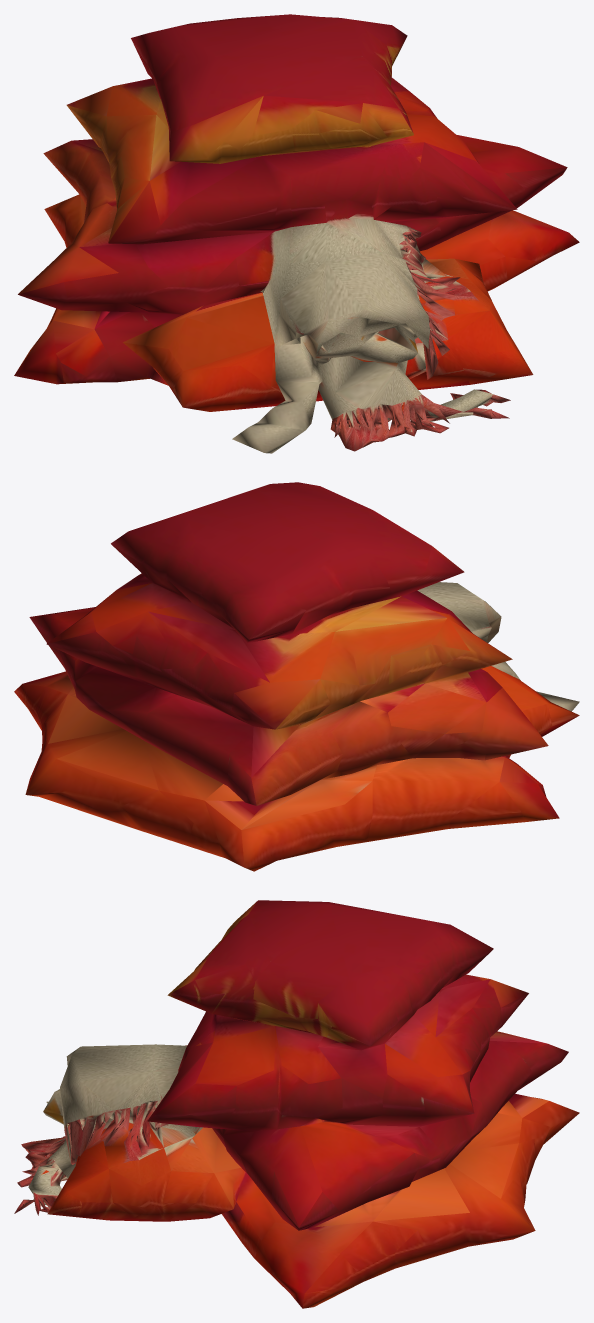
Rendered from cushions.glb.
3 renders of one model, top to bottom at view 1: azimuth 30°, elevation 25°; view 2: azimuth 150°, elevation 25°; view 3: azimuth 270°, elevation 25°, orthographic. The views are drawn at different scales.
Visible parts, largest first — view 1: body; view 2: body; view 3: body.
Part boxes in pixels (left/top/right/bottom): body: left=14, top=14, right=579, bottom=453; body: left=14, top=482, right=579, bottom=871; body: left=14, top=900, right=579, bottom=1308.
Size of the model in its own units: 1.08 by 0.4961 by 0.9937.
1 material, 1 textured.
